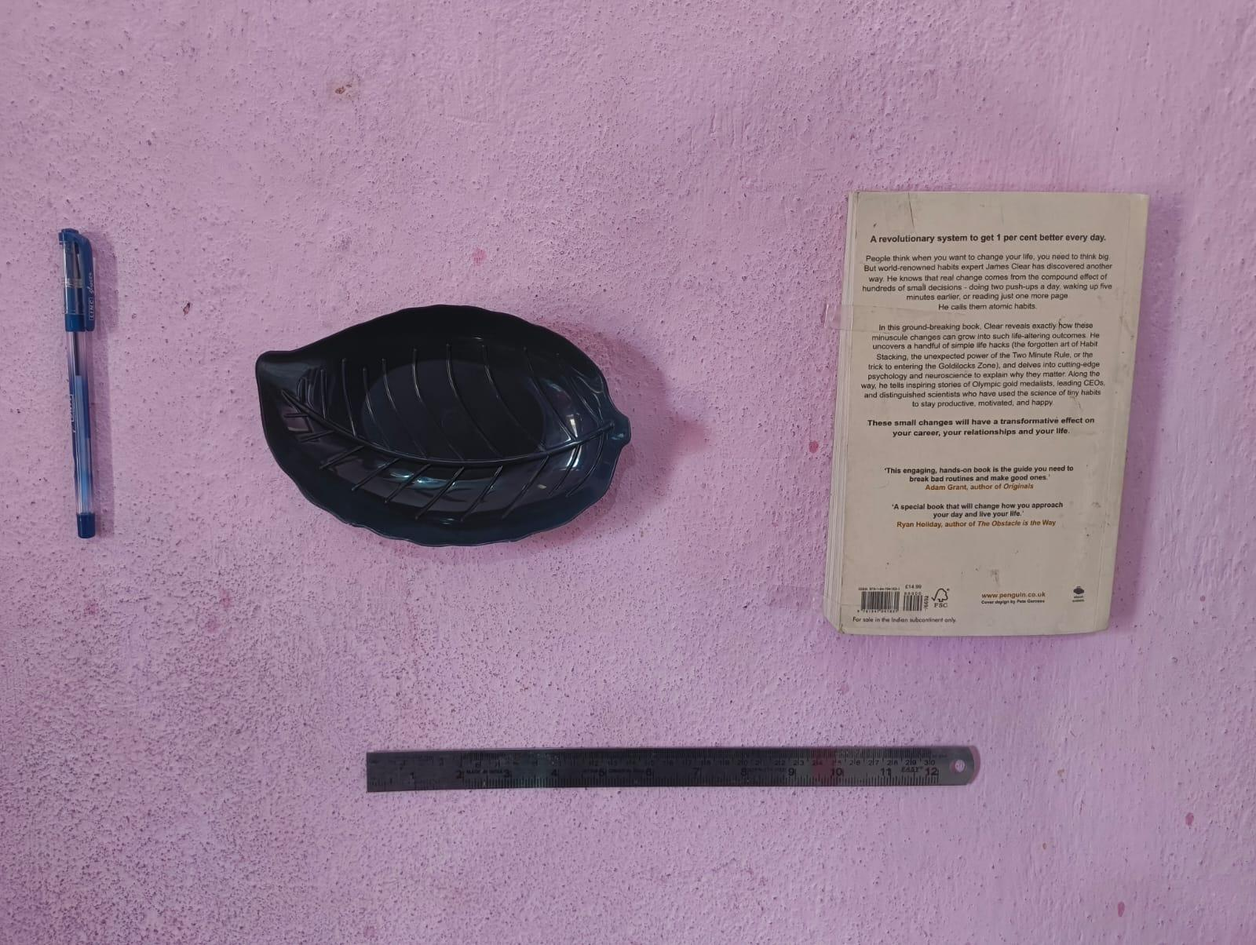Book: (827, 178, 1158, 646)
pen: (50, 227, 108, 542)
plate: (251, 300, 638, 548)
scale: (361, 738, 987, 797)
